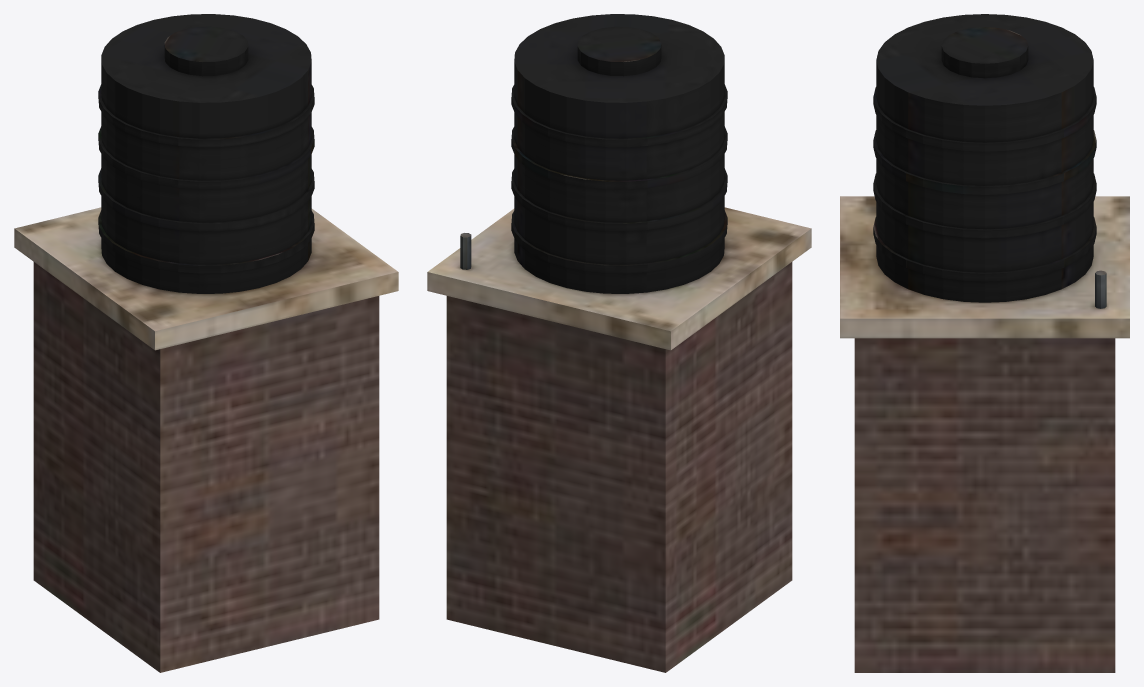
File: watertank.glb
3 renders of one model, left to right at view 1: azimuth 30°, elevation 25°; view 2: azimuth 150°, elevation 25°; view 3: azimuth 270°, elevation 25°, orthographic. The views are drawn at different scales.
Visible parts, largest first — view 1: watertank; view 2: watertank; view 3: watertank.
Boxes of the visible parts, box(x1,y1,x2,y2) form: watertank: box(14, 14, 398, 672); watertank: box(427, 14, 811, 672); watertank: box(840, 14, 1129, 672).
Size of the model in its own units: 2 by 4.36 by 2.
Materials: 1 (1 with a texture image).
